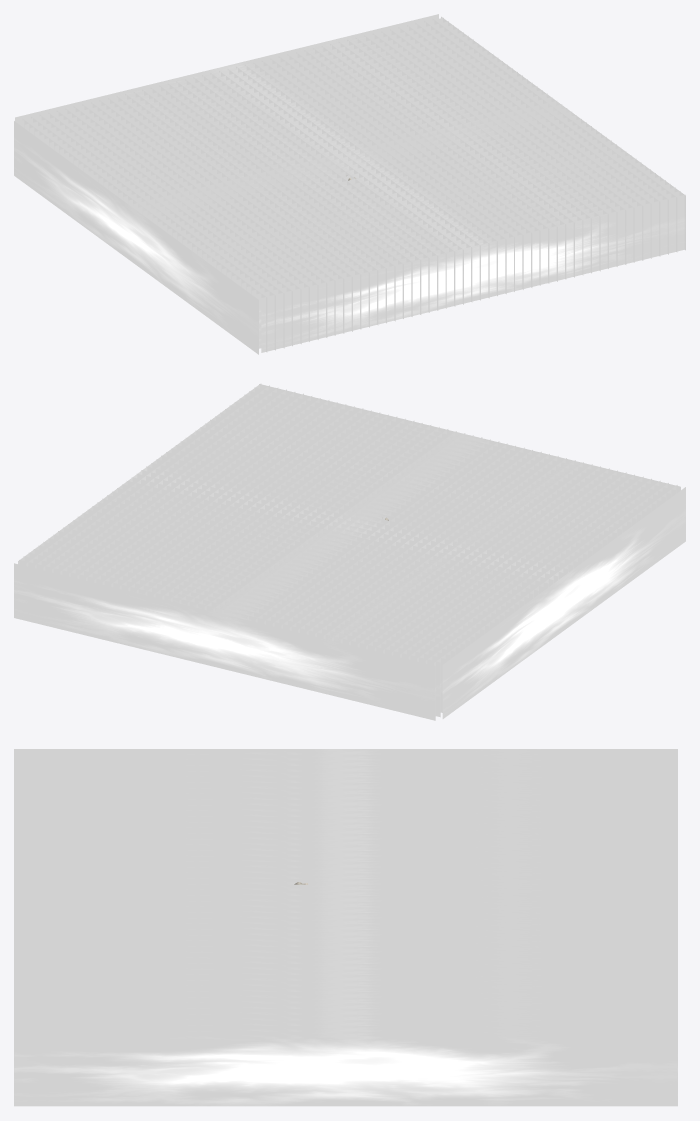
3 views of the same model, one above another, from view 1: azimuth 30°, elevation 25°; view 2: azimuth 150°, elevation 25°; view 3: azimuth 270°, elevation 25° (orthographic). The views are drawn at different scales.
Parts seen in each view (by area): view 1: fog_A, fog_B; view 2: fog_A, fog_B; view 3: fog_B.
Boxes of the visible parts, x1=… form: fog_A: x1=15, y1=14, x2=685, y2=352; fog_B: x1=14, y1=16, x2=685, y2=354; fog_A: x1=14, y1=384, x2=680, y2=720; fog_B: x1=18, y1=383, x2=685, y2=718; fog_B: x1=14, y1=749, x2=677, y2=1106.
Size of the model in its own units: 8117 by 997 by 8143.
Materials: 2 (2 with a texture image).
